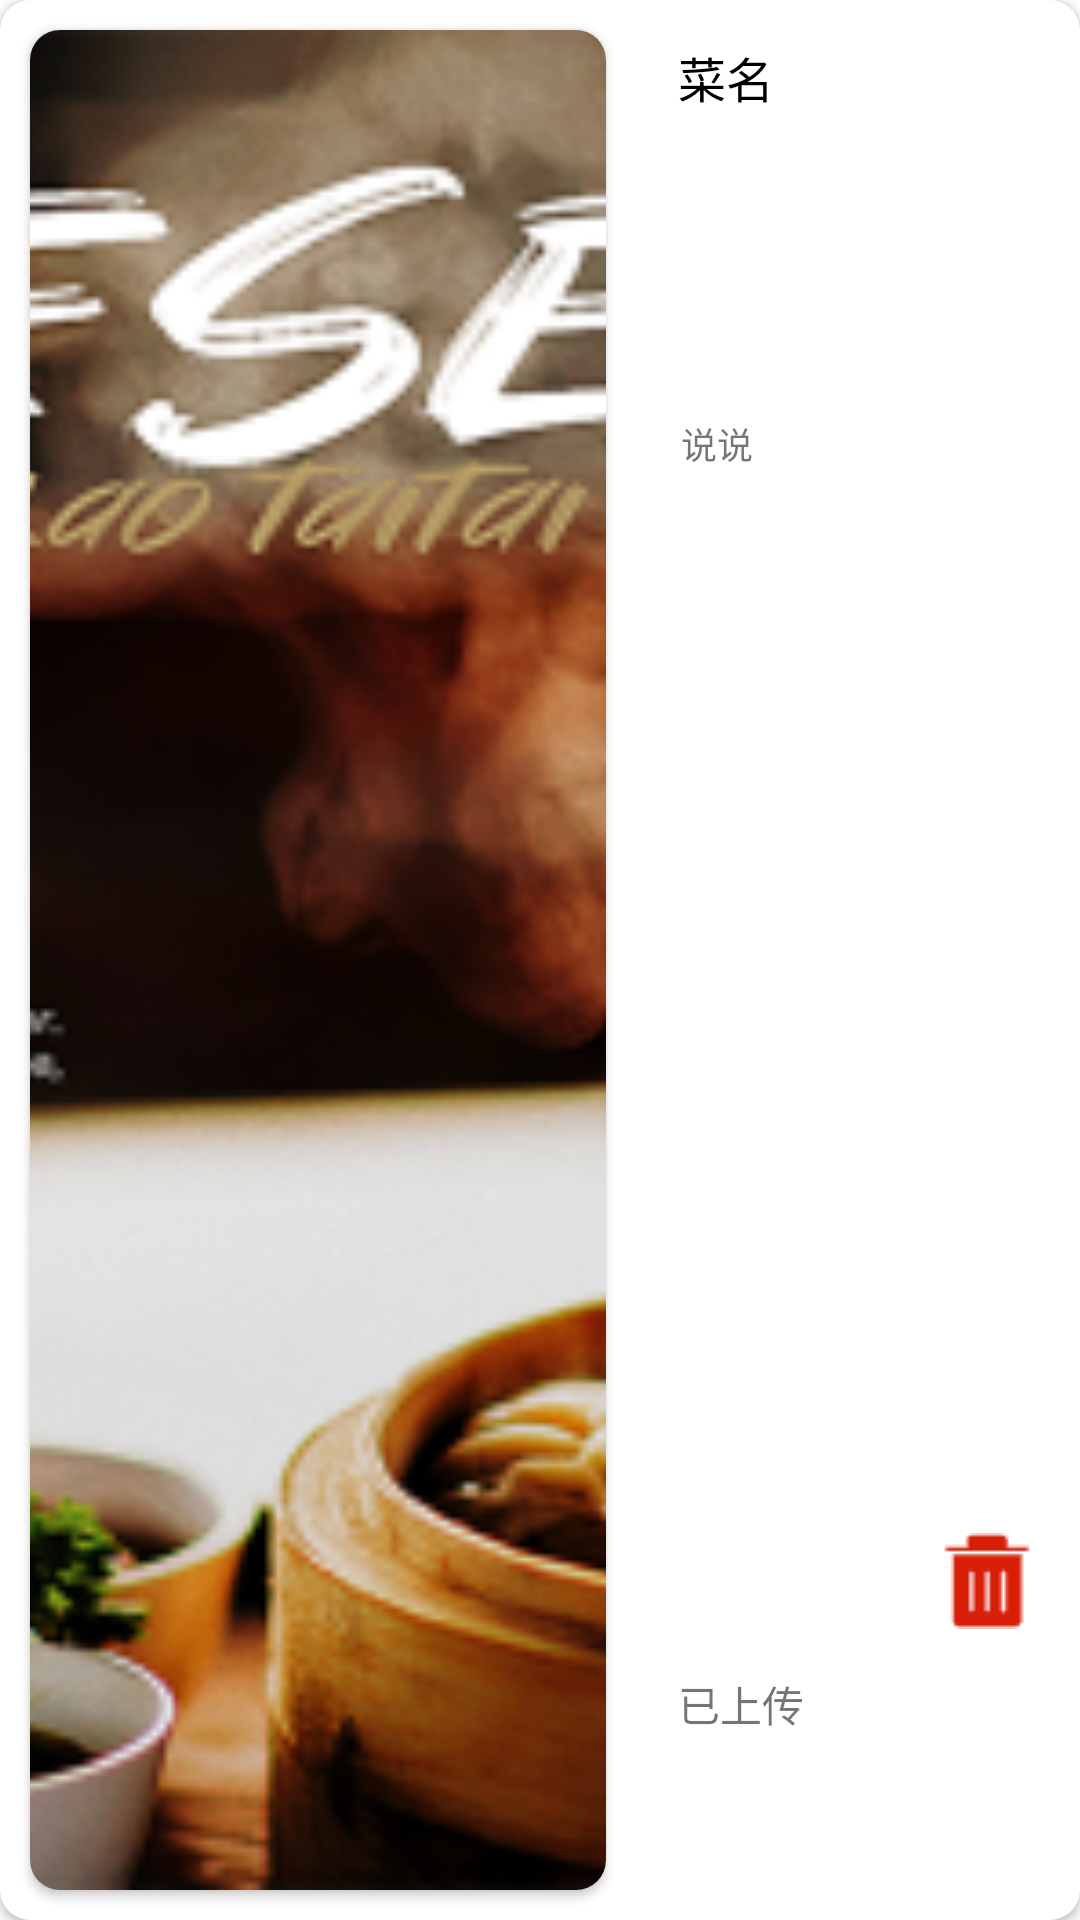

Named icons in this screenshot (1080px×1920px) and their bounding boxes, (x1, y1, x2, y2):
delete: (944, 1533, 1030, 1629)
